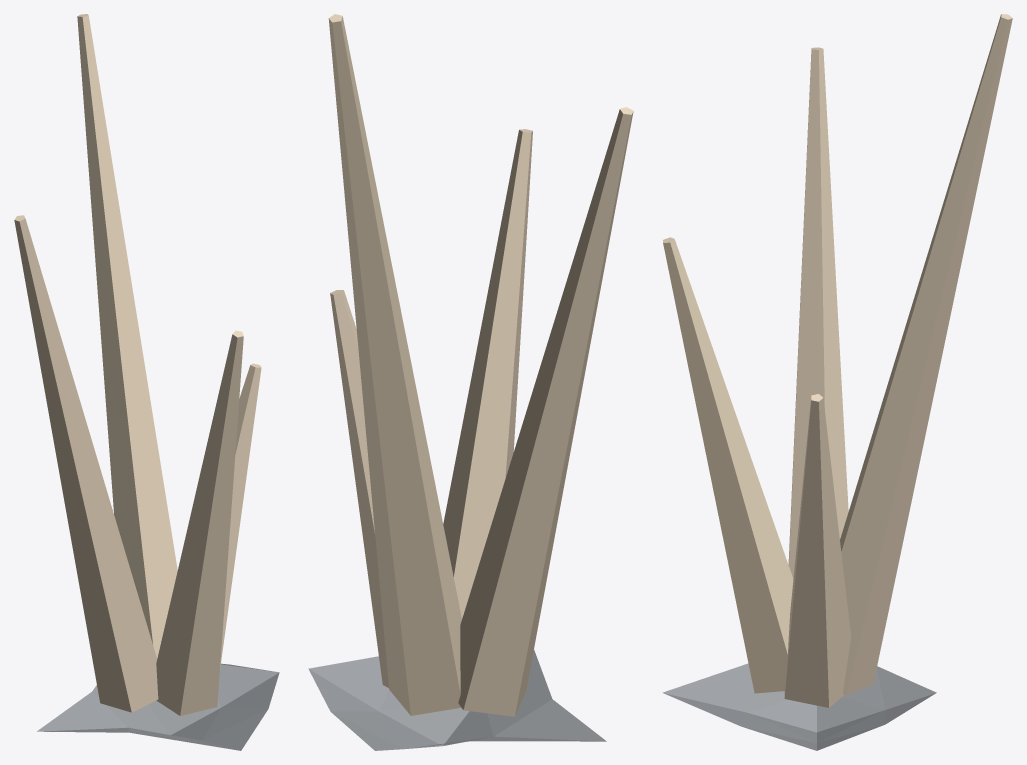
The model's file is crystal_v28.glb.
3 renders of one model, left to right at view 1: azimuth 30°, elevation 25°; view 2: azimuth 150°, elevation 25°; view 3: azimuth 270°, elevation 25°, orthographic. The views are drawn at different scales.
Visible parts, largest first — view 1: lod0; view 2: lod0; view 3: lod0.
Boxes of the visible parts, left/top/right/bottom form: lod0: left=14, top=14, right=279, bottom=750; lod0: left=308, top=14, right=633, bottom=750; lod0: left=662, top=14, right=1012, bottom=750.
Size of what is drawn, in the model's own units: 0.7529 by 1.79 by 0.7932.
